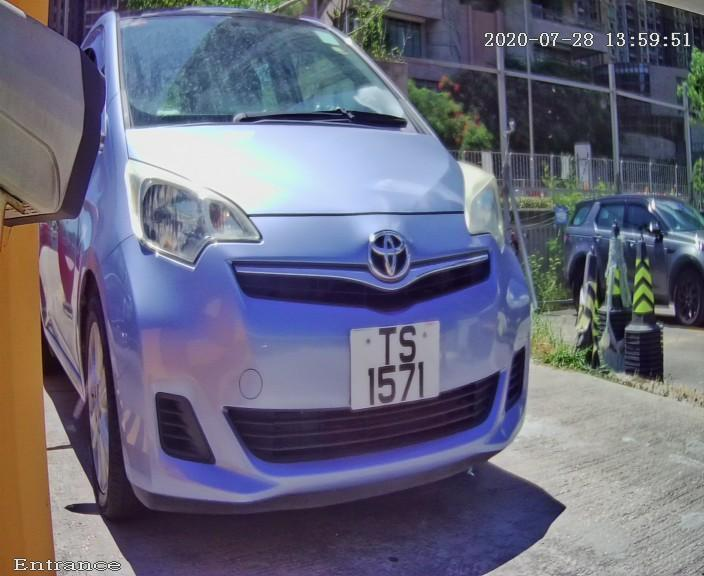privatecar: (16, 19, 604, 556)
